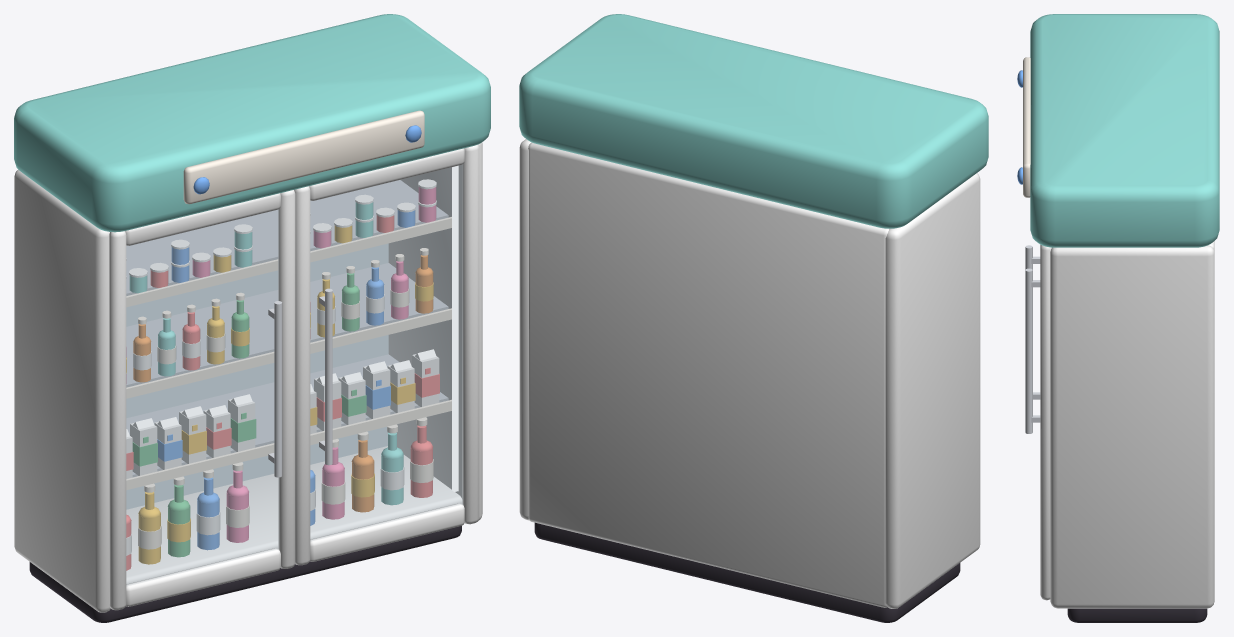
The model's file is cooler.glb.
The picture shows the model from 3 angles, left to right: view 1: azimuth 30°, elevation 25°; view 2: azimuth 150°, elevation 25°; view 3: azimuth 270°, elevation 25°; orthographic projection. The views are drawn at different scales.
Parts seen in each view (by area): view 1: cooler; view 2: cooler; view 3: cooler.
Boxes of the visible parts, left/top/right/bottom form: cooler: left=14, top=14, right=490, bottom=622; cooler: left=519, top=14, right=988, bottom=622; cooler: left=1017, top=14, right=1219, bottom=622.
Bounding box in the file's own units: 1.72 × 1.95 × 0.8125.
